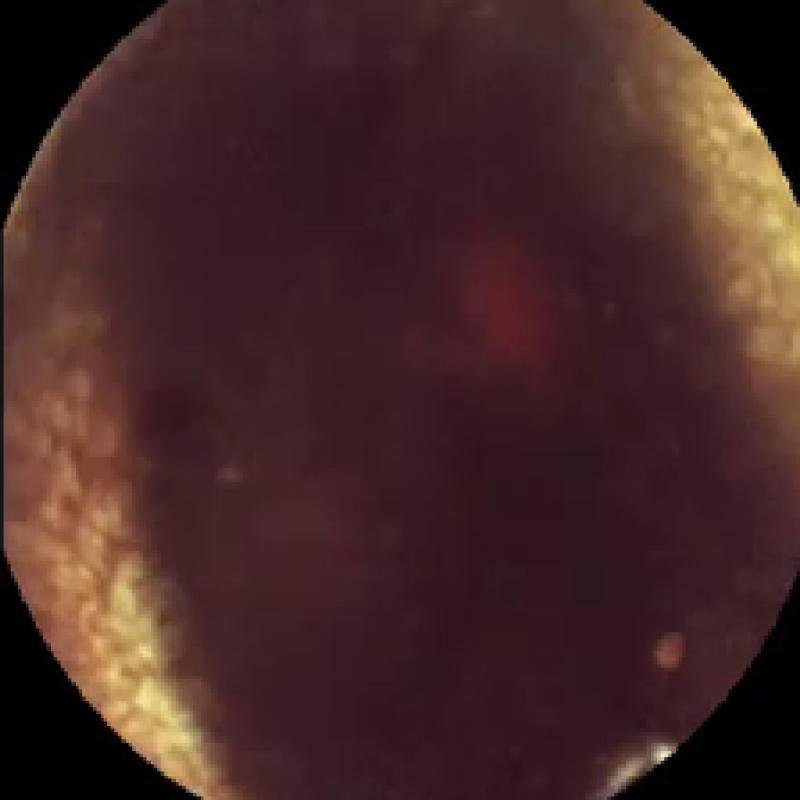bleeding: (461, 243, 554, 371)
